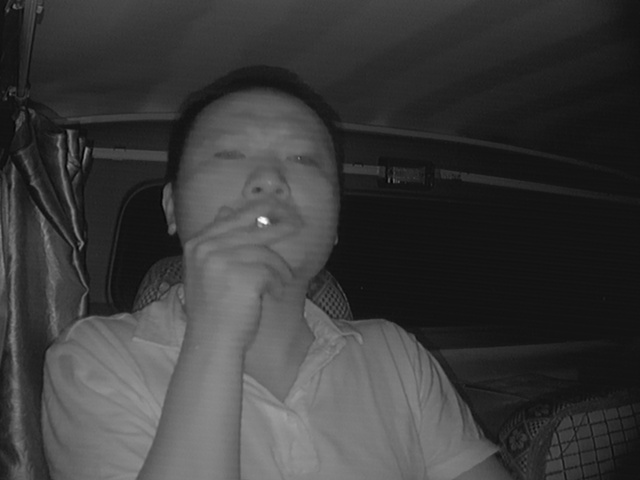hand: (195, 200, 299, 300)
